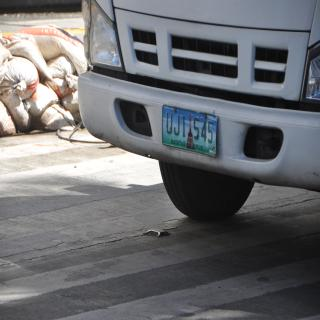license: (164, 106, 219, 157)
